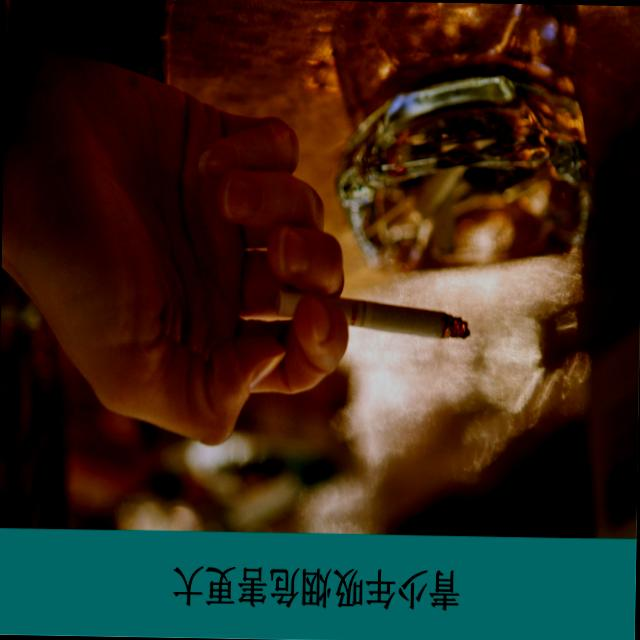cigarette: (346, 292, 471, 342)
